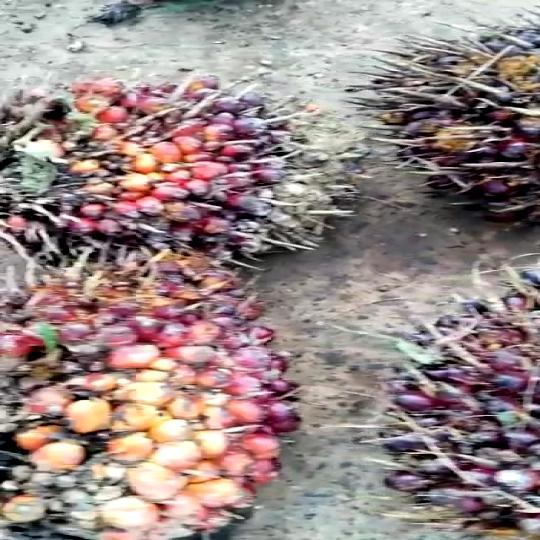masak: (0, 256, 319, 540), (1, 73, 345, 283)
